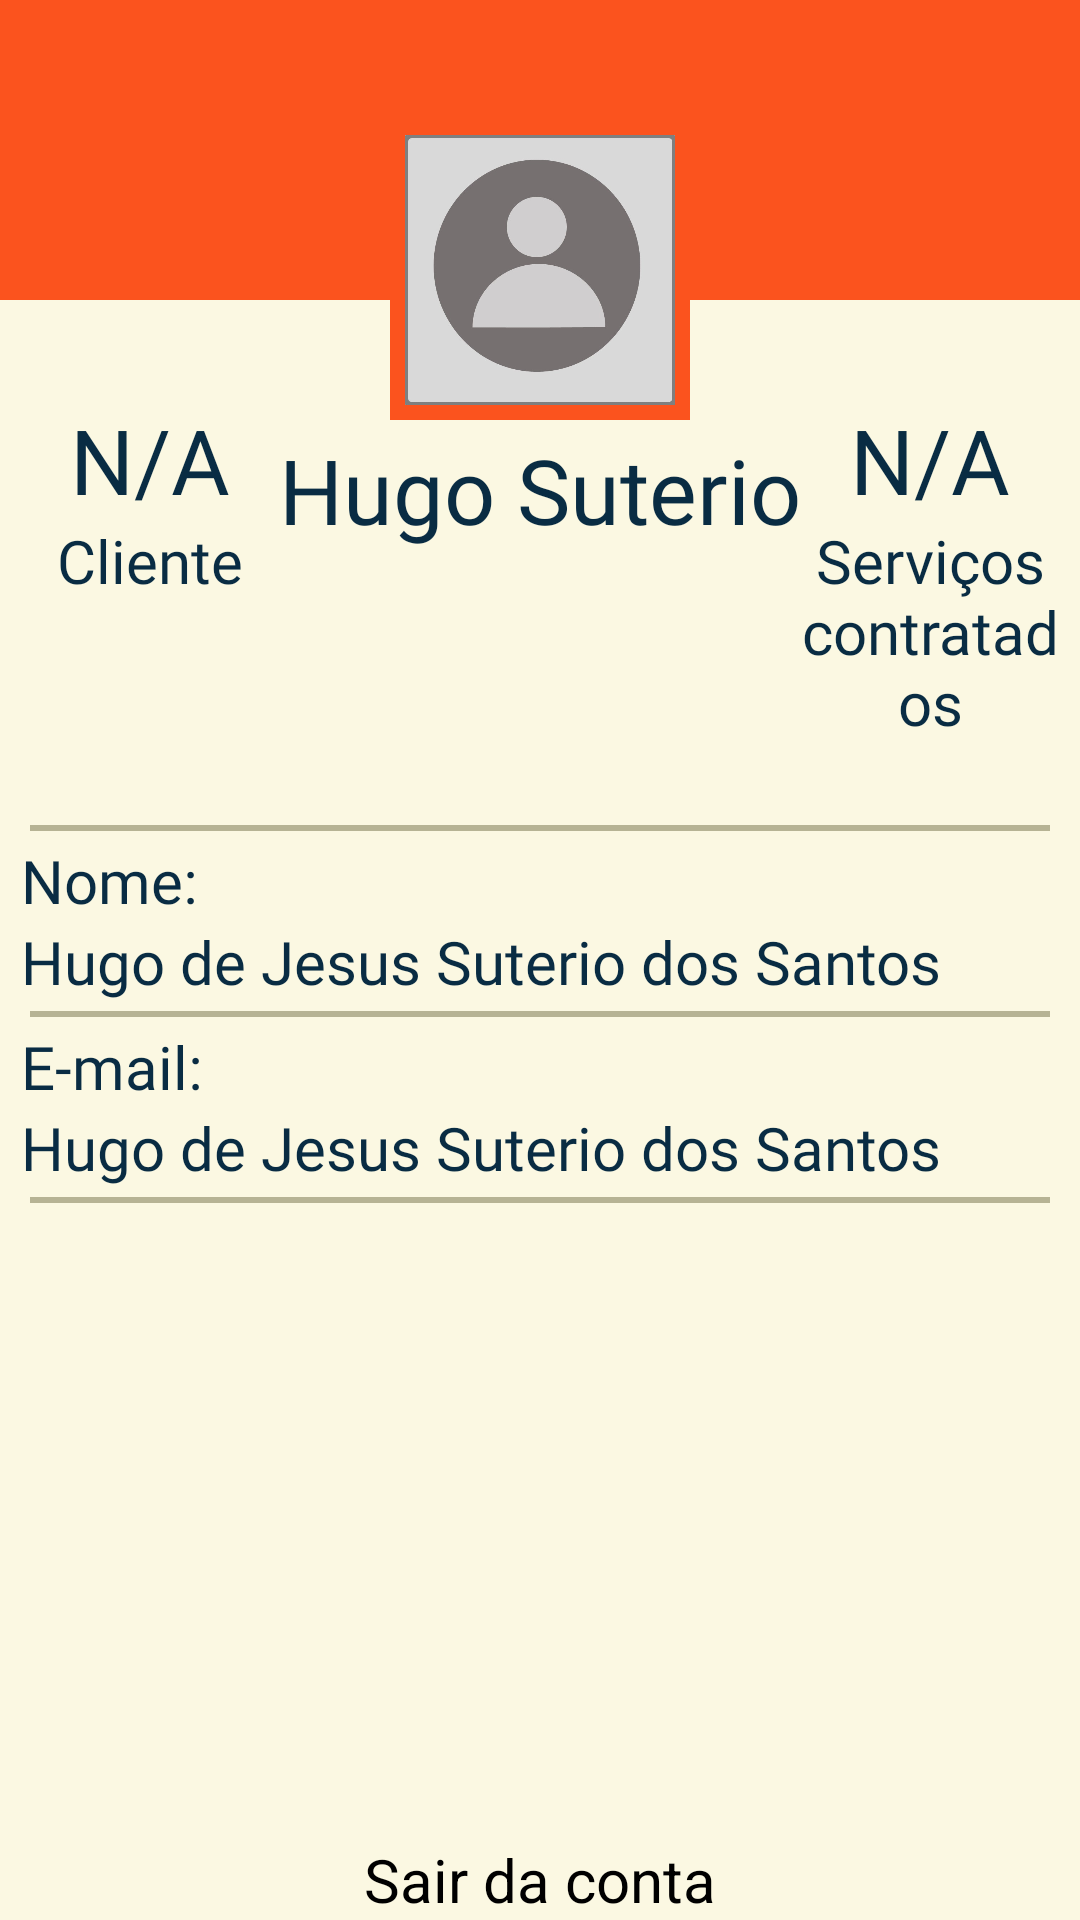

Icon bounding boxes for this 1080x1920 phone screenshot, format (x1, y1, x2, y2):
foto usuario: (405, 135, 675, 405)
